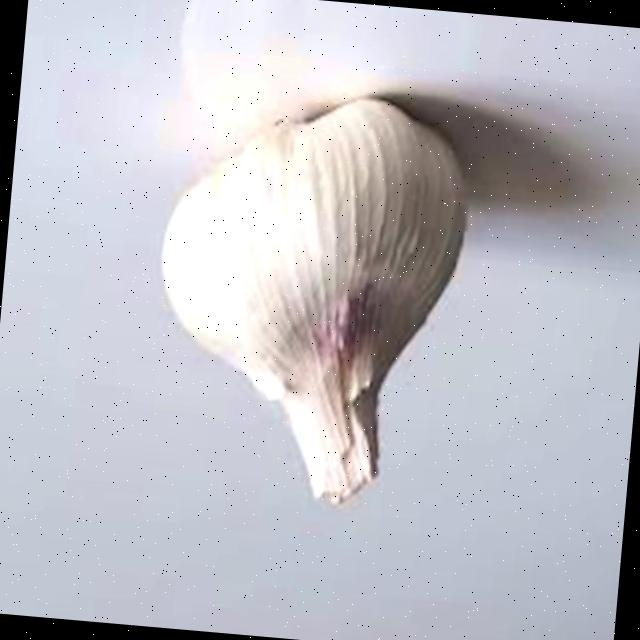garlic: (160, 98, 465, 505)
